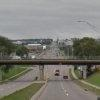Bridge: (2, 48, 92, 69)
